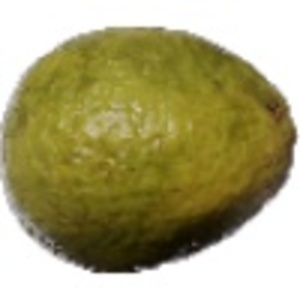goiaba: (6, 25, 297, 284)
